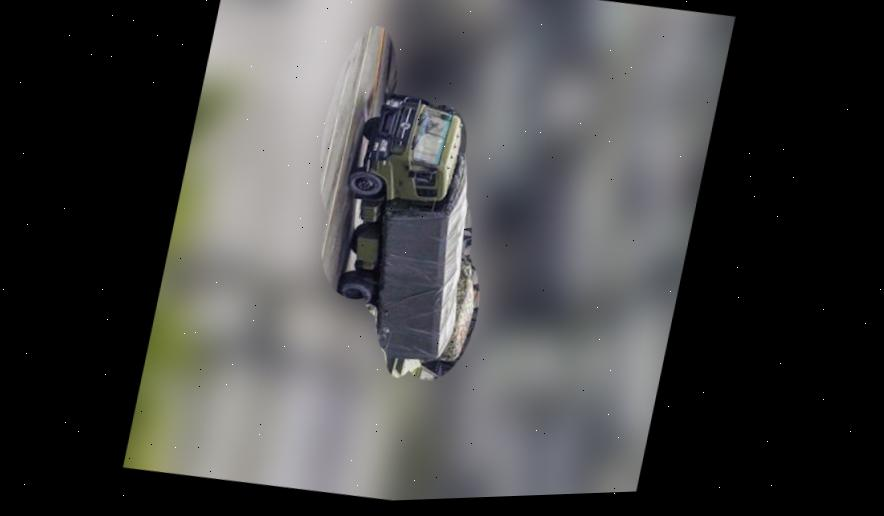truck: (307, 82, 520, 391)
